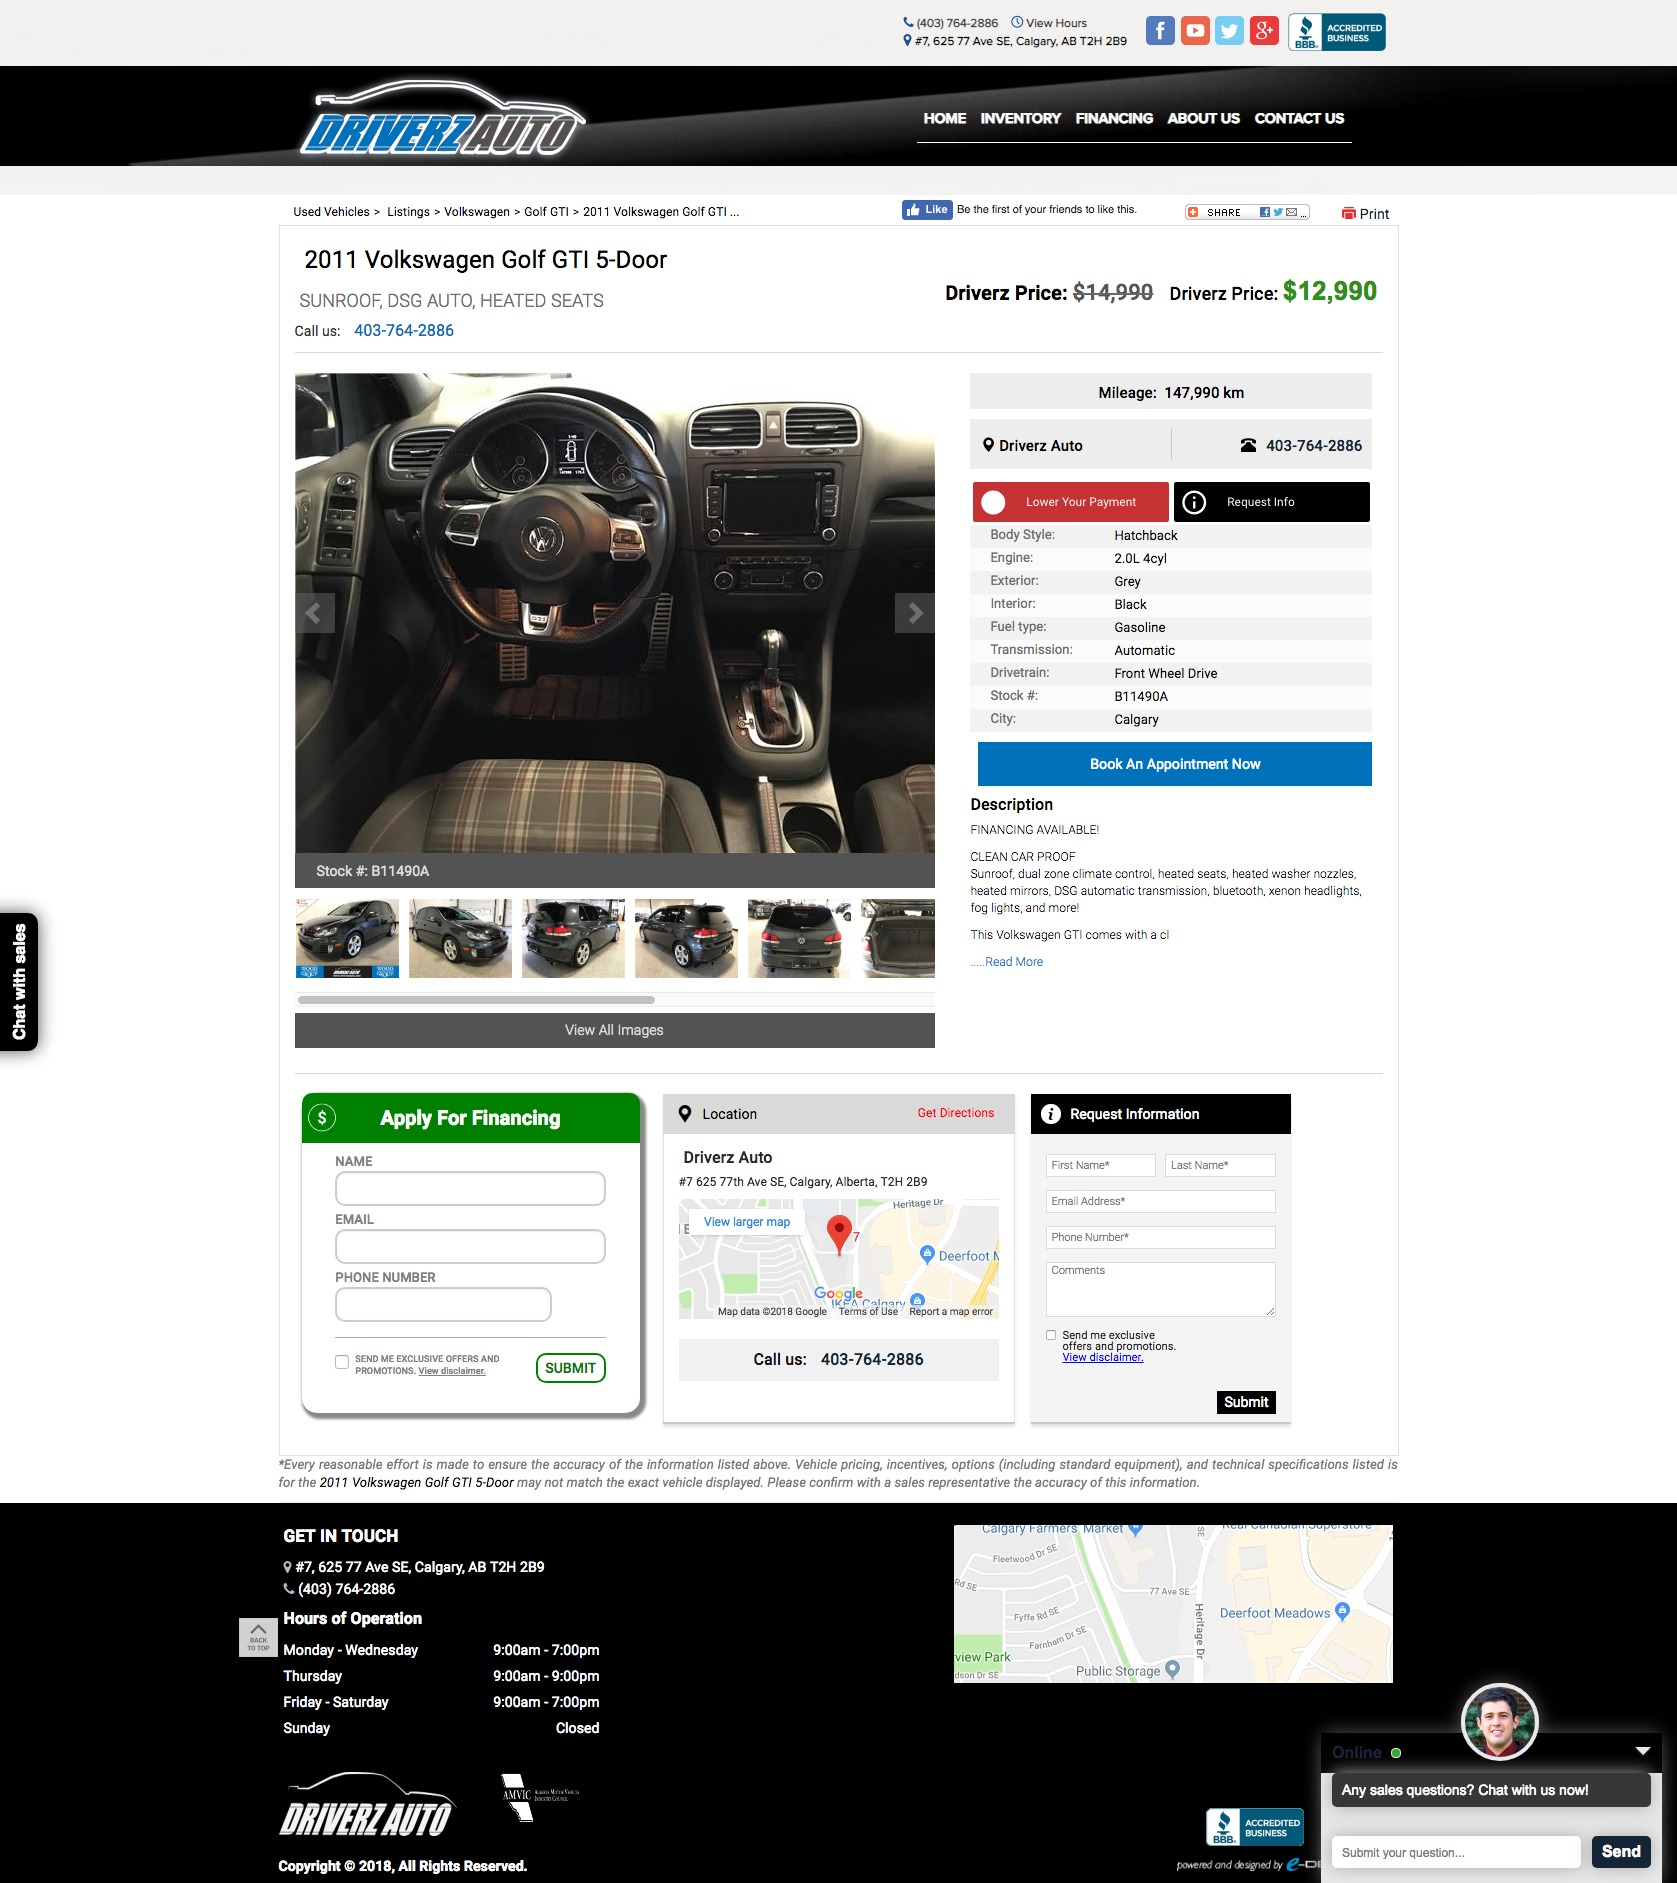car: (894, 593, 937, 635)
